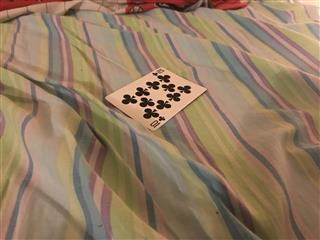TenOfClubs: (104, 66, 208, 132)
